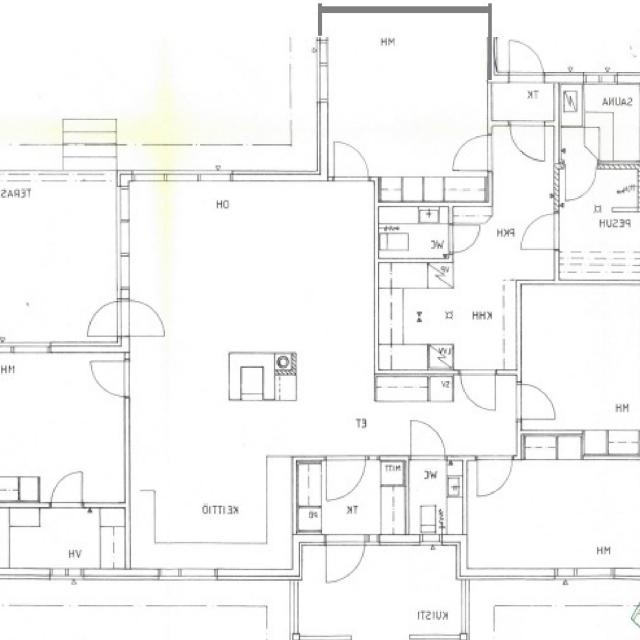door: (327, 535, 364, 584), (327, 454, 366, 500), (116, 300, 164, 336), (82, 300, 130, 336), (510, 37, 544, 83), (89, 360, 130, 397), (477, 454, 513, 496), (334, 140, 369, 181), (520, 214, 559, 250), (461, 369, 495, 410), (511, 121, 545, 161), (516, 385, 554, 419), (412, 420, 445, 459), (454, 136, 492, 169), (51, 469, 83, 507), (566, 160, 596, 200), (448, 226, 478, 251)
